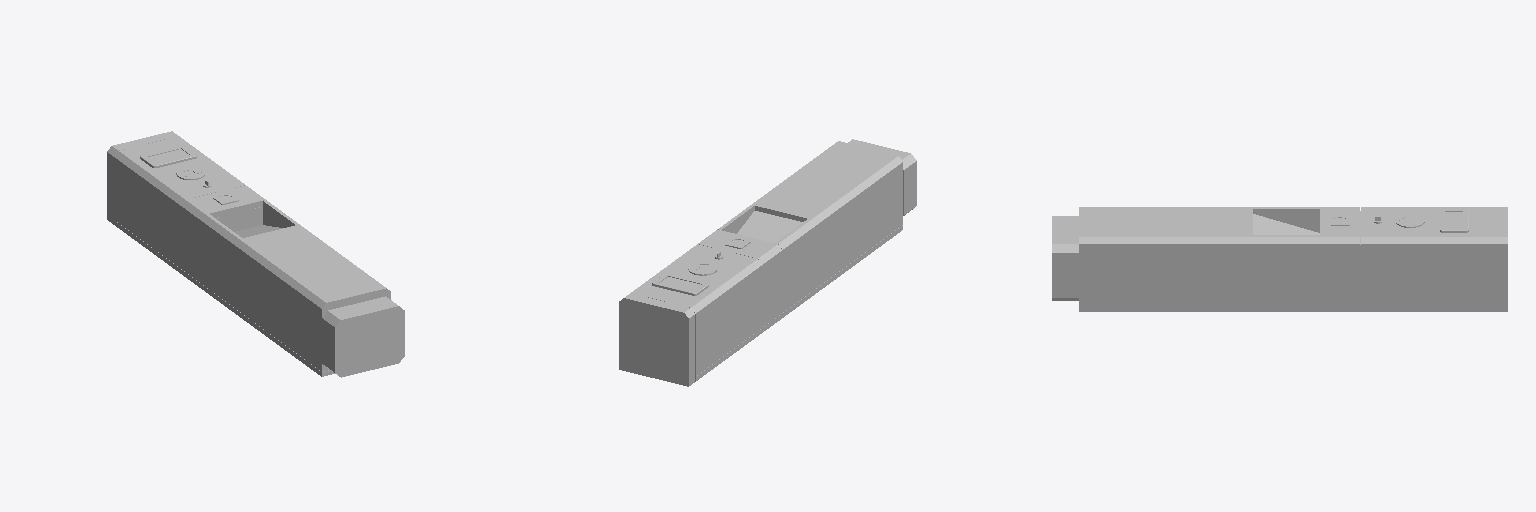
The model's file is 充电桩.obj.
3 renders of one model, left to right at view 1: azimuth 30°, elevation 25°; view 2: azimuth 150°, elevation 25°; view 3: azimuth 270°, elevation 25°, orthographic.
Visible parts, largest first — view 1: |公交充电桩1|Root|gloss_blue, |公交充电桩1|Root|metallic_cool_grey, |公交充电桩1|Root|aluminum_powdercoat, |公交充电桩1|Root|black_high_gloss_plastic; view 2: |公交充电桩1|Root|gloss_blue, |公交充电桩1|Root|aluminum_powdercoat, |公交充电桩1|Root|metallic_cool_grey, |公交充电桩1|Root|black_high_gloss_plastic; view 3: |公交充电桩1|Root|gloss_blue, |公交充电桩1|Root|metallic_cool_grey, |公交充电桩1|Root|aluminum_powdercoat.
Part boxes in pixels (bbox=[...]): |公交充电桩1|Root|gloss_blue: bbox=[107, 131, 390, 376]; |公交充电桩1|Root|metallic_cool_grey: bbox=[322, 296, 404, 377]; |公交充电桩1|Root|aluminum_powdercoat: bbox=[181, 185, 265, 219]; |公交充电桩1|Root|black_high_gloss_plastic: bbox=[140, 146, 238, 204]; |公交充电桩1|Root|gloss_blue: bbox=[619, 141, 902, 386]; |公交充电桩1|Root|aluminum_powdercoat: bbox=[698, 206, 806, 264]; |公交充电桩1|Root|metallic_cool_grey: bbox=[848, 139, 916, 215]; |公交充电桩1|Root|black_high_gloss_plastic: bbox=[652, 239, 750, 295]; |公交充电桩1|Root|gloss_blue: bbox=[1079, 207, 1507, 311]; |公交充电桩1|Root|metallic_cool_grey: bbox=[1052, 216, 1078, 300]; |公交充电桩1|Root|aluminum_powdercoat: bbox=[1320, 207, 1359, 243].
Bounding box in the file's own units: 0.3 × 0.32 × 1.7.